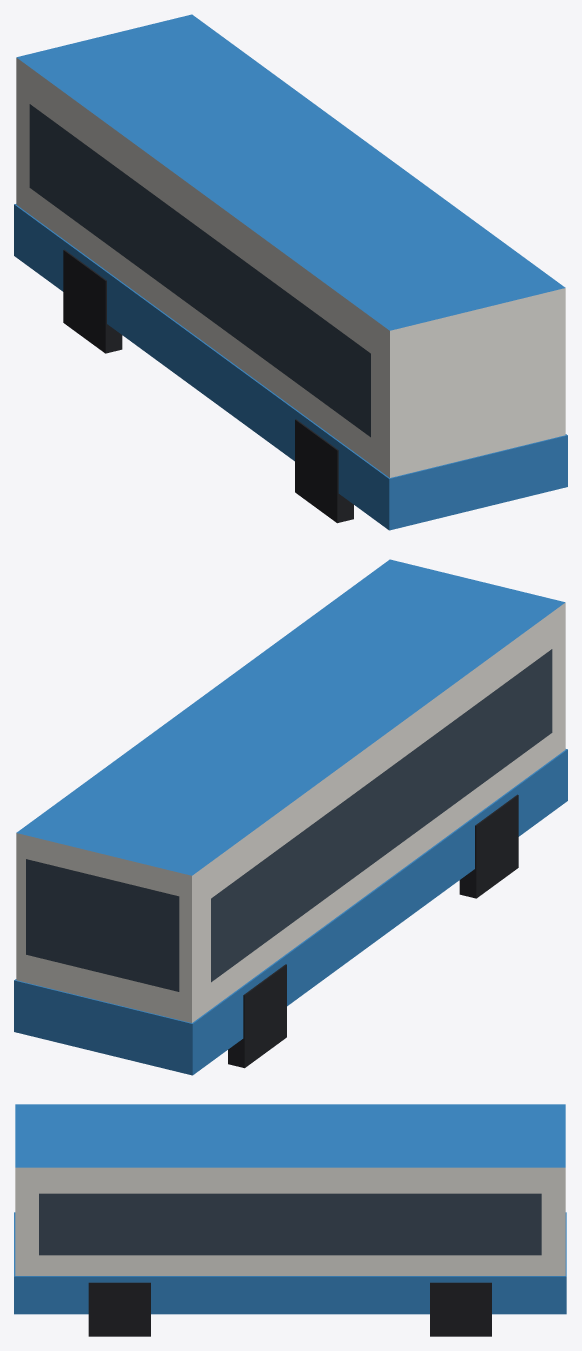
The model's file is V_Bus.fbx.
3 renders of one model, top to bottom at view 1: azimuth 30°, elevation 25°; view 2: azimuth 150°, elevation 25°; view 3: azimuth 270°, elevation 25°, orthographic. The views are drawn at different scales.
Parts seen in each view (by area): view 1: V_Bus.001; view 2: V_Bus.001; view 3: V_Bus.001.
Part boxes in pixels (bbox=[...]): V_Bus.001: bbox=[14, 14, 567, 530]; V_Bus.001: bbox=[14, 559, 567, 1075]; V_Bus.001: bbox=[14, 1104, 566, 1336].
Bounding box in the file's own units: 1.29 × 1.55 × 4.63.
